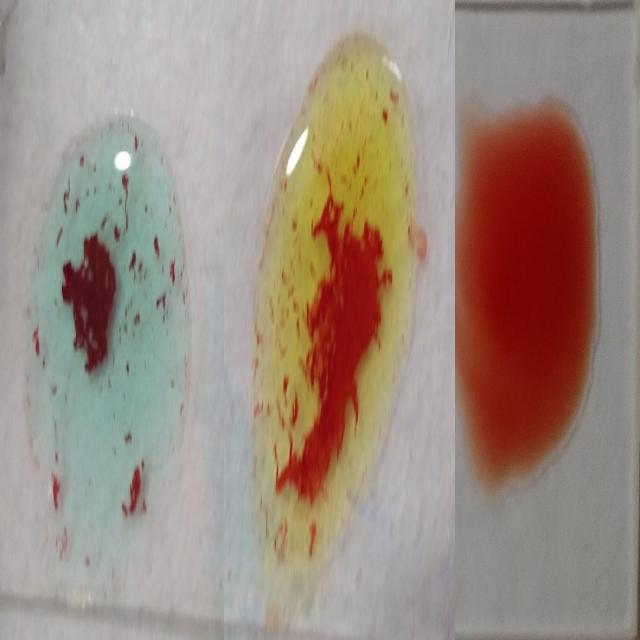A: (24, 106, 192, 546)
B: (250, 44, 416, 563)
